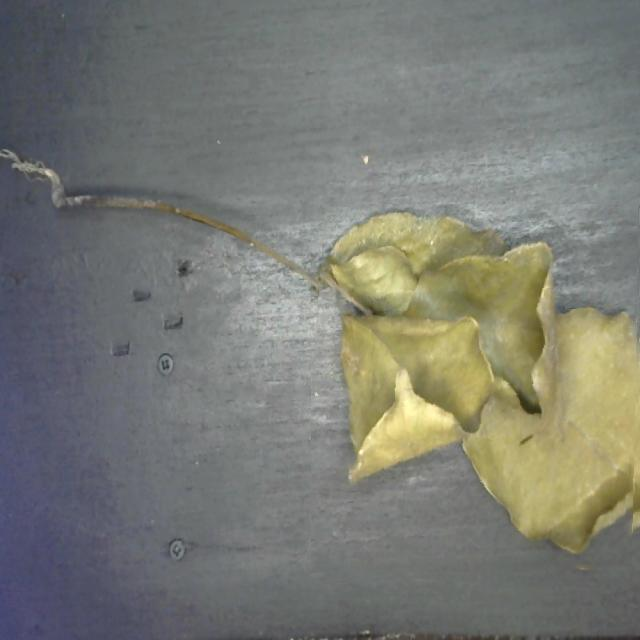biodegradable: (311, 204, 640, 585)
